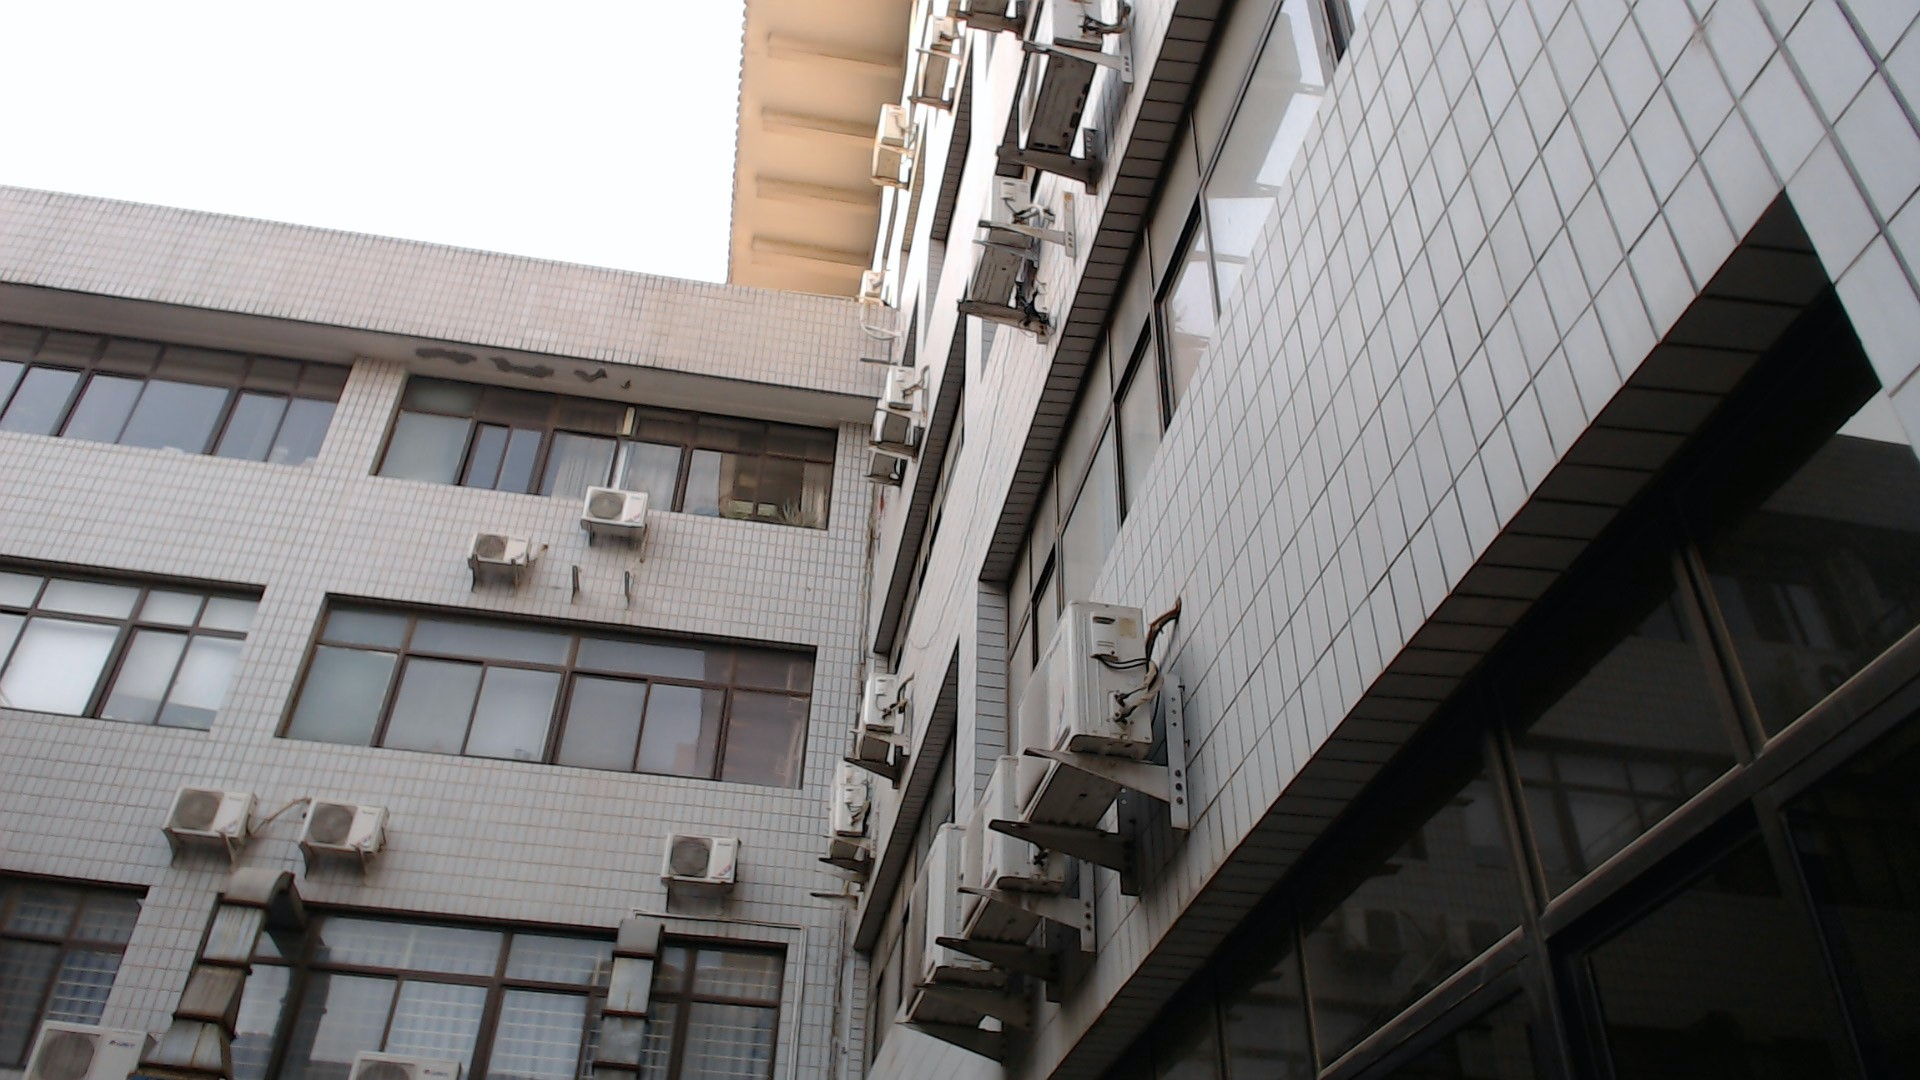drone: (992, 272, 1073, 347)
